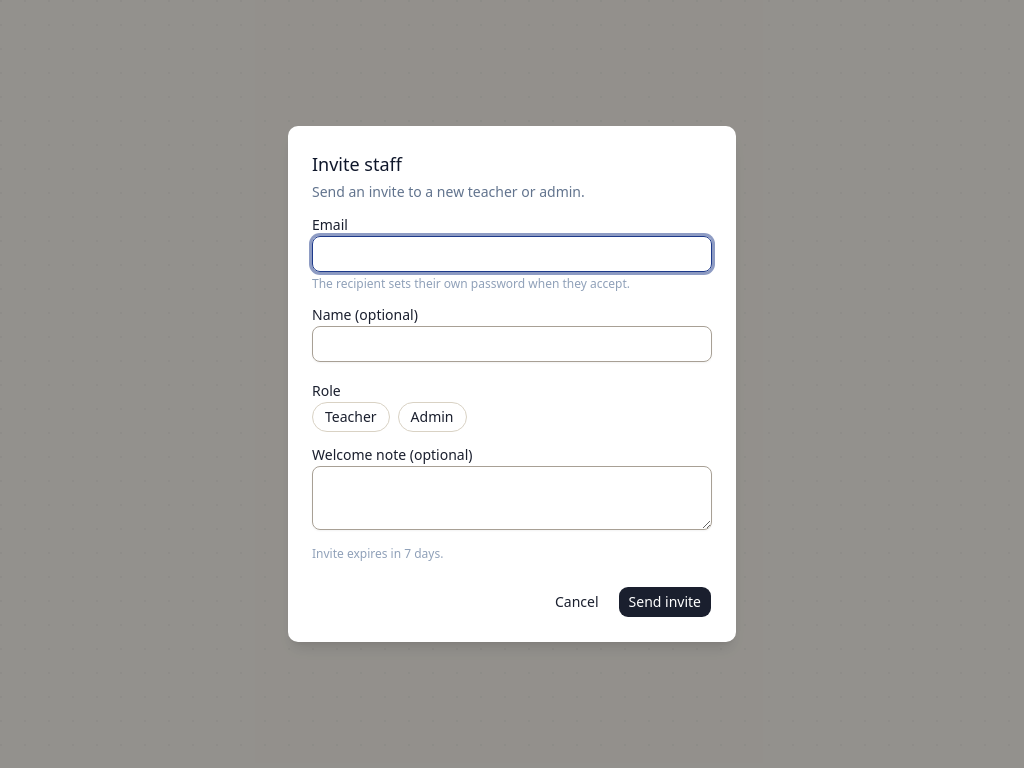
Test case: InviteStaffModal — validation + error mapping (AC17/AC18) › P1 409 INVITE_EMAIL_TAKEN maps to the email-field error copy
The image size is (1024, 768).
Type "taken@example.com" into the field labelled "Email" at (512, 254), box [312,236,712,272]
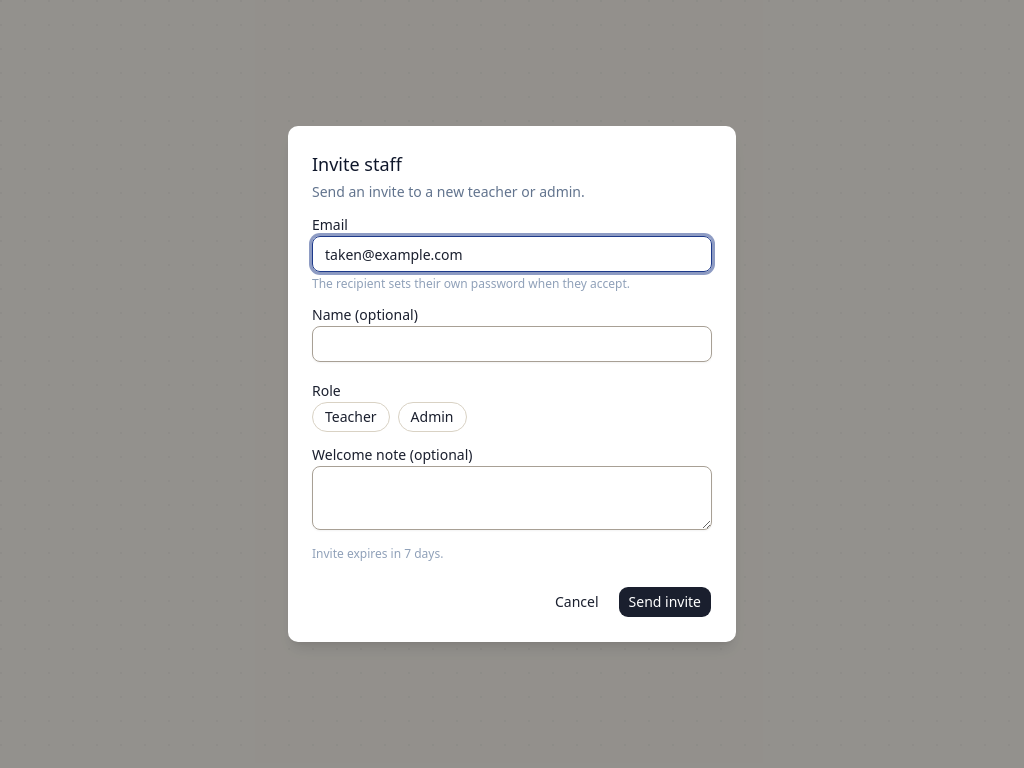
Click the button with test id "role-chip-teacher" at (351, 417), box [312,402,390,432]
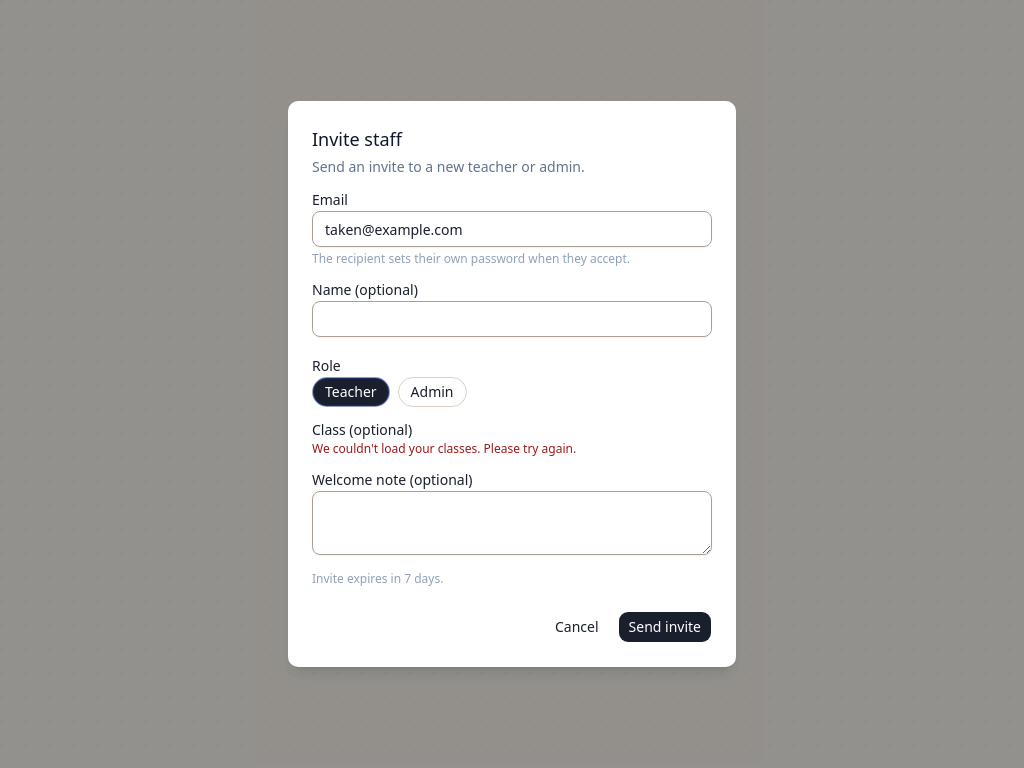
Click the button "Send invite" at (665, 627), box [618,611,712,643]
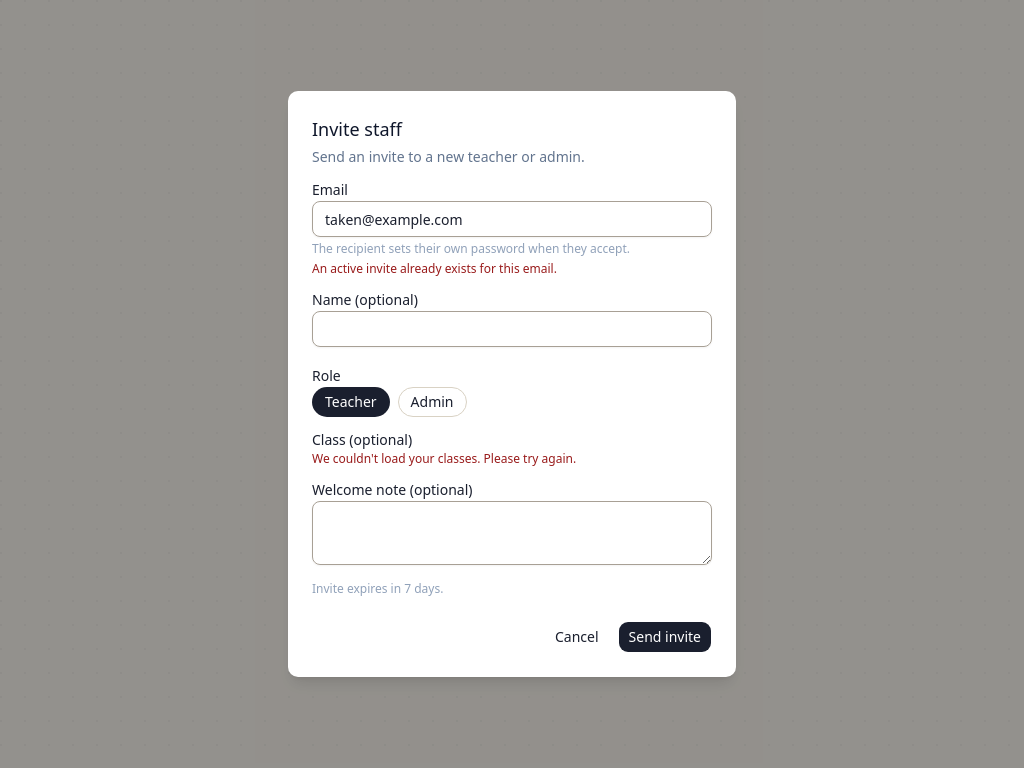
expect the text "An active invite already exists for this email." is shown: met, box [312,260,557,277]
